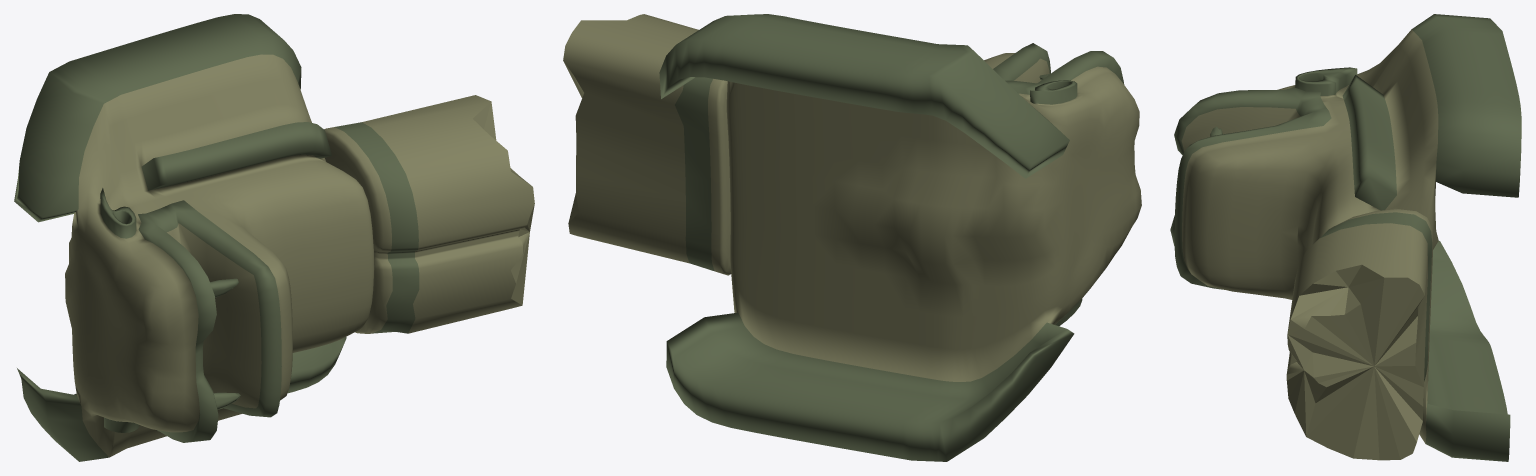
The model's file is statue_snake_broken.fbx.
3 renders of one model, left to right at view 1: azimuth 30°, elevation 25°; view 2: azimuth 150°, elevation 25°; view 3: azimuth 270°, elevation 25°, orthographic. The views are drawn at different scales.
Visible parts, largest first — view 1: statue_snake_broken; view 2: statue_snake_broken; view 3: statue_snake_broken.
Part boxes in pixels (x1,y1,x2,y2): statue_snake_broken: (14,14,534,461); statue_snake_broken: (563,14,1141,461); statue_snake_broken: (1170,14,1521,461).
Size of the model in its own units: 3.68 by 2.86 by 2.6.
